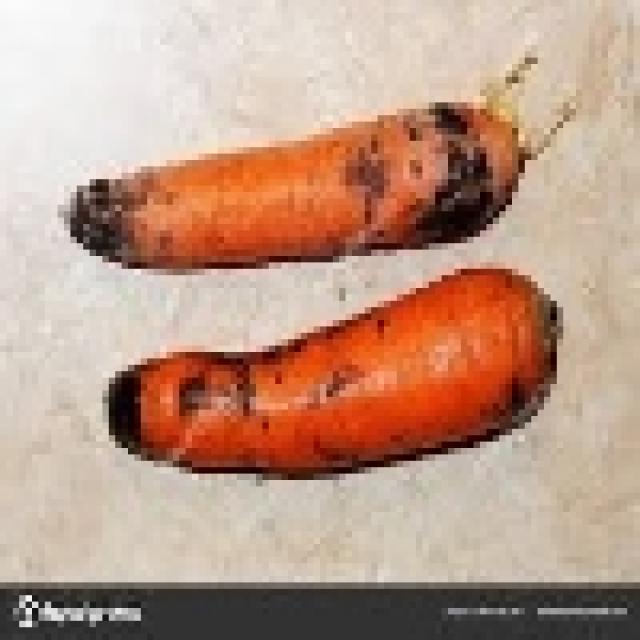Stale_Carrot: (95, 253, 549, 486), (46, 90, 522, 264)
